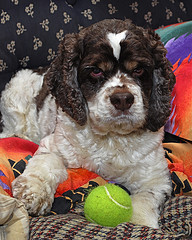tennis ball: (83, 183, 135, 229)
